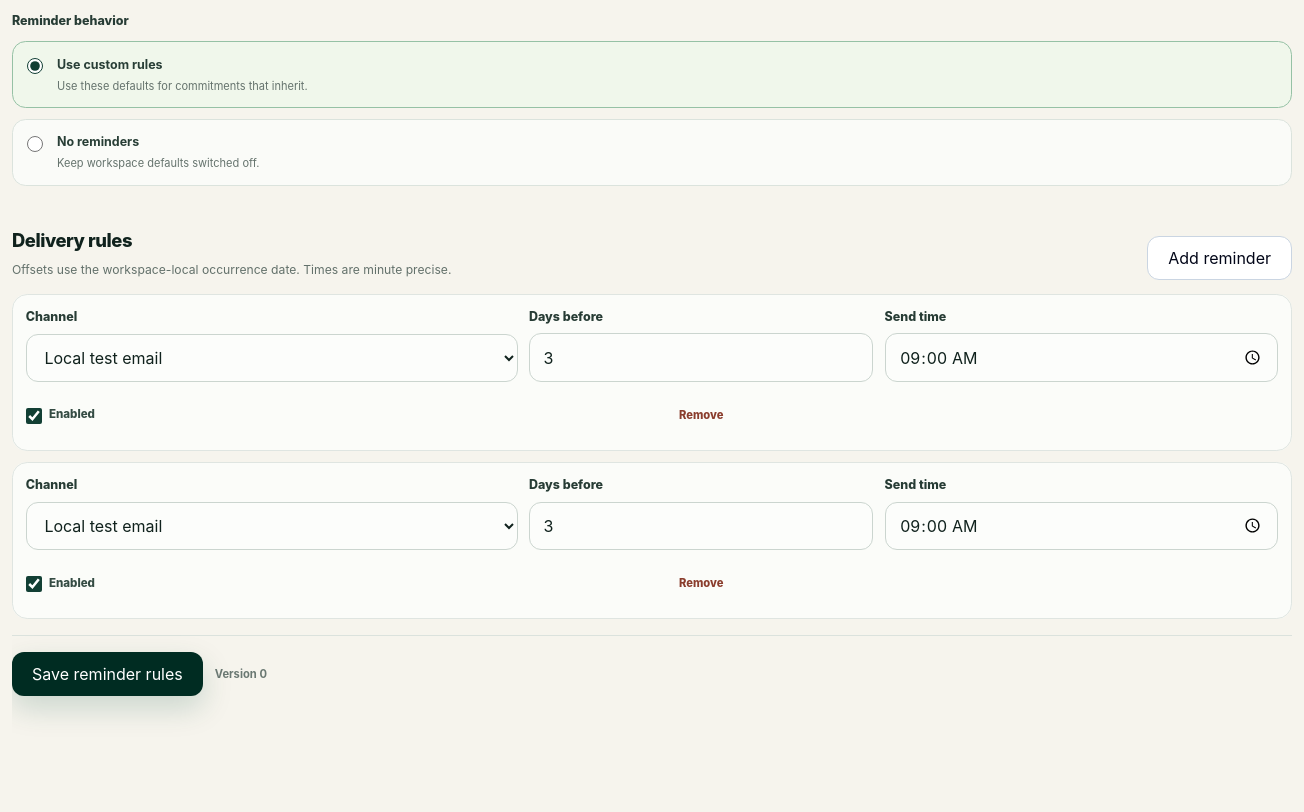
Test: ReminderRuleEditor › rejects duplicate channel and offset pairs
The image size is (1304, 812).
Click the button "Save reminder rules": {"x": 107, "y": 674} [12,652,203,696]
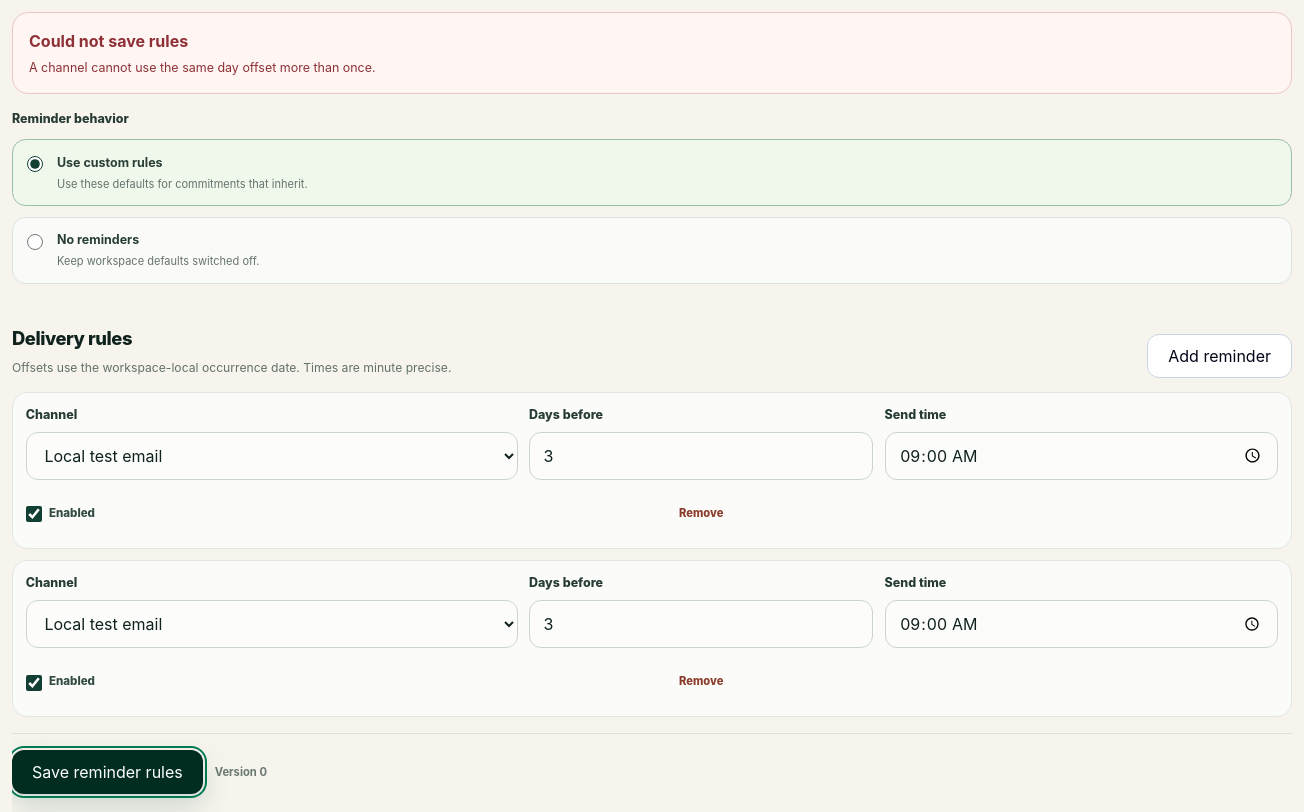
Expected: the text "A channel cannot use the same day offset more than once." is shown, [29,60,376,75]
